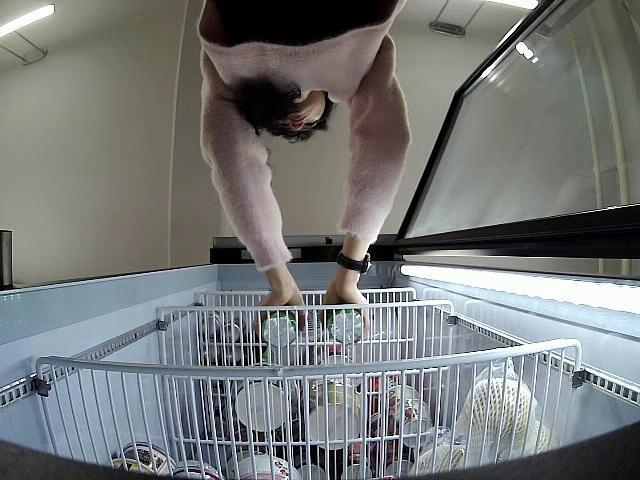18_trevi: (261, 310, 300, 350), (328, 305, 364, 346)
